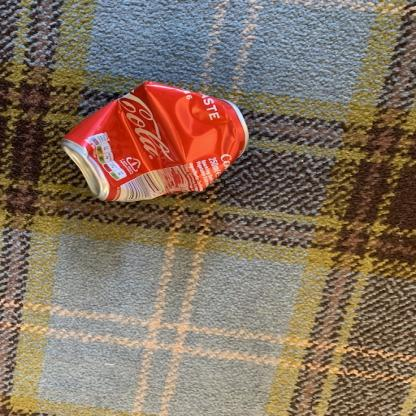trash: (60, 83, 262, 208)
